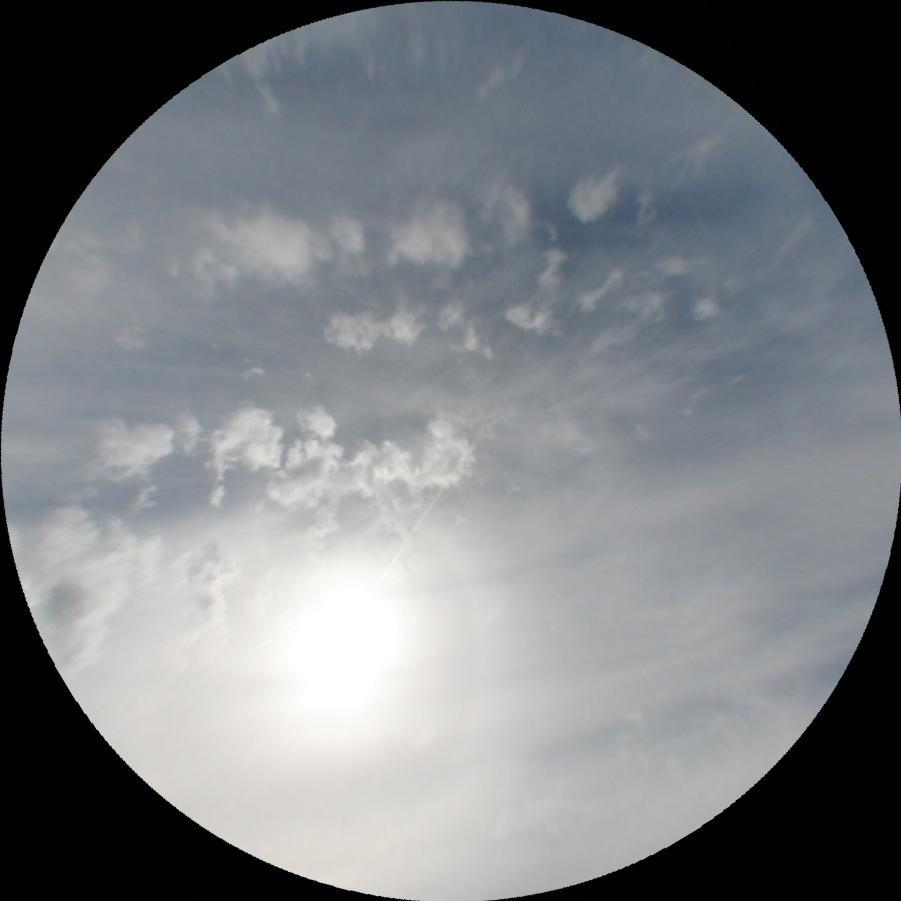contrail young: (369, 206, 619, 595)
sun: (264, 568, 416, 731)
